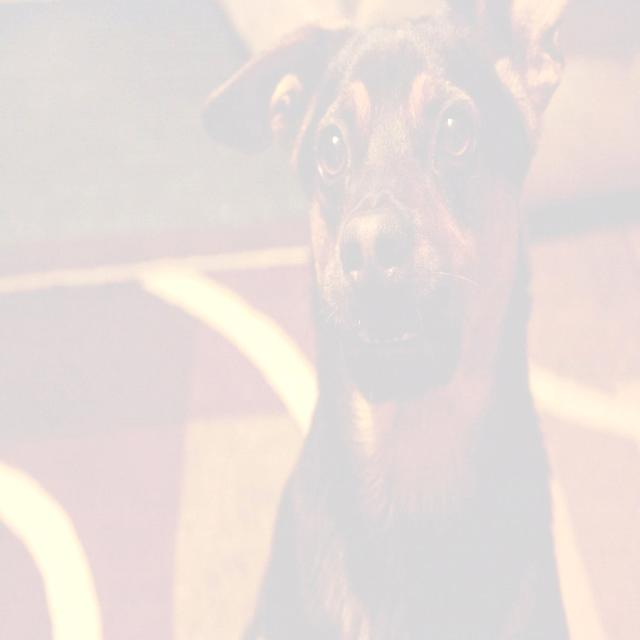Dog: (196, 58, 590, 585)
